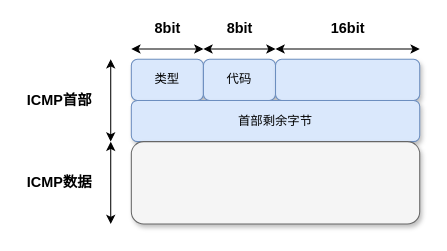
The diagram is 447 pixels wide and 251 high, and some of its shapes have lost their labels. The shapes that lost their labels are listed below. From the top down, each one's centre as x and y in pixels, then its label:
At point (348, 81): "校验和".
At point (276, 183): "数据部分".
